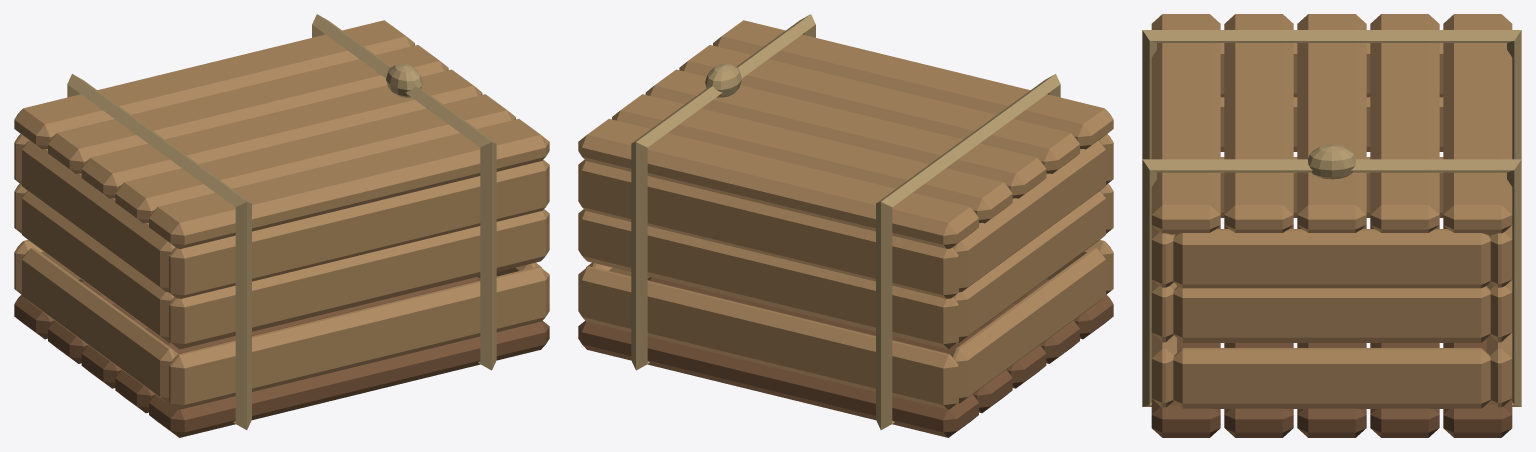
The picture shows the model from 3 angles, left to right: view 1: azimuth 30°, elevation 25°; view 2: azimuth 150°, elevation 25°; view 3: azimuth 270°, elevation 25°; orthographic projection. The views are drawn at different scales.
Visible parts, largest first — view 1: BA-0028 batched; view 2: BA-0028 batched; view 3: BA-0028 batched.
Boxes of the visible parts, x1,y1,x2,y2 form: BA-0028 batched: (14,14,549,437); BA-0028 batched: (578,14,1113,437); BA-0028 batched: (1142,14,1521,437).
Bounding box in the file's own units: 0.655 × 0.395 × 0.5198.
